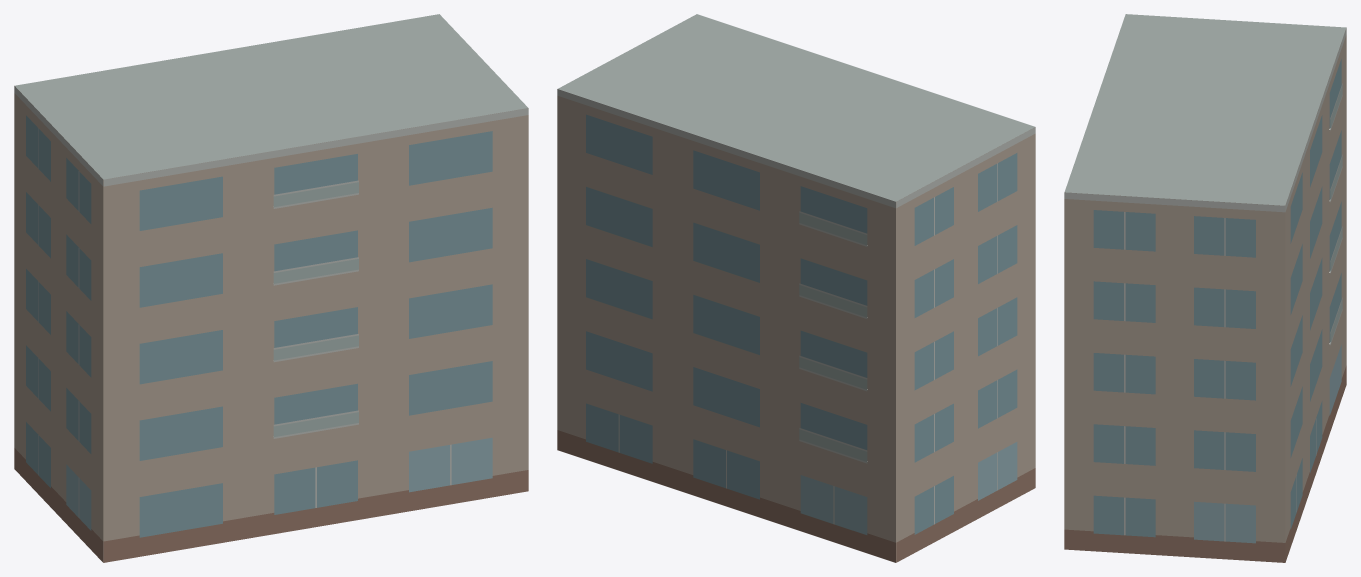
The model's file is survey-upis-32870683.glb.
The picture shows the model from 3 angles, left to right: view 1: azimuth 30°, elevation 25°; view 2: azimuth 150°, elevation 25°; view 3: azimuth 270°, elevation 25°; orthographic projection. The views are drawn at different scales.
Parts seen in each view (by area): view 1: survey-upis-32870683.tmp; view 2: survey-upis-32870683.tmp; view 3: survey-upis-32870683.tmp.
Part boxes in pixels (<box>): survey-upis-32870683.tmp: <box>14,14,528,562</box>; survey-upis-32870683.tmp: <box>557,14,1035,562</box>; survey-upis-32870683.tmp: <box>1064,14,1346,562</box>.
Size of the model in its own units: 15.33 by 13.3 by 9.53.
